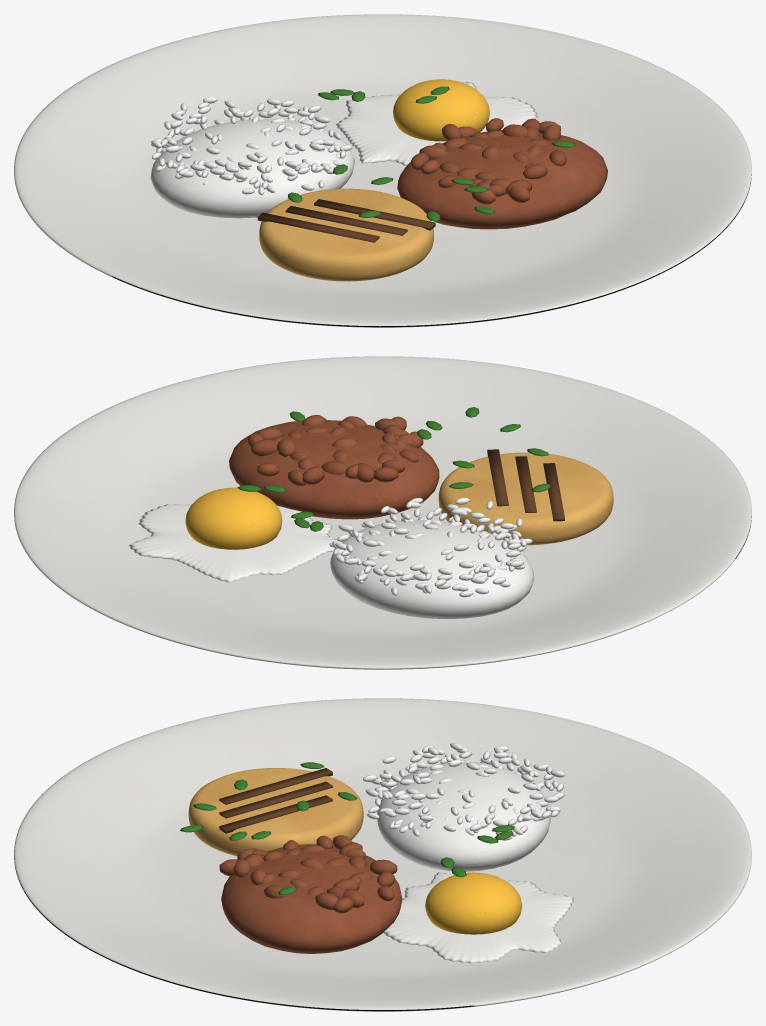
File: calentado.glb
3 views of the same model, one above another, from view 1: azimuth 30°, elevation 25°; view 2: azimuth 150°, elevation 25°; view 3: azimuth 270°, elevation 25° (orthographic).
Visible parts, largest first — view 1: calentado; view 2: calentado; view 3: calentado.
Part boxes in pixels (left/top/right/bottom): calentado: left=14, top=14, right=751, bottom=327; calentado: left=14, top=356, right=751, bottom=669; calentado: left=14, top=698, right=751, bottom=1011.
Size of the model in its own units: 0.2963 by 0.0309 by 0.2963.
Materials: 1 (1 with a texture image).
